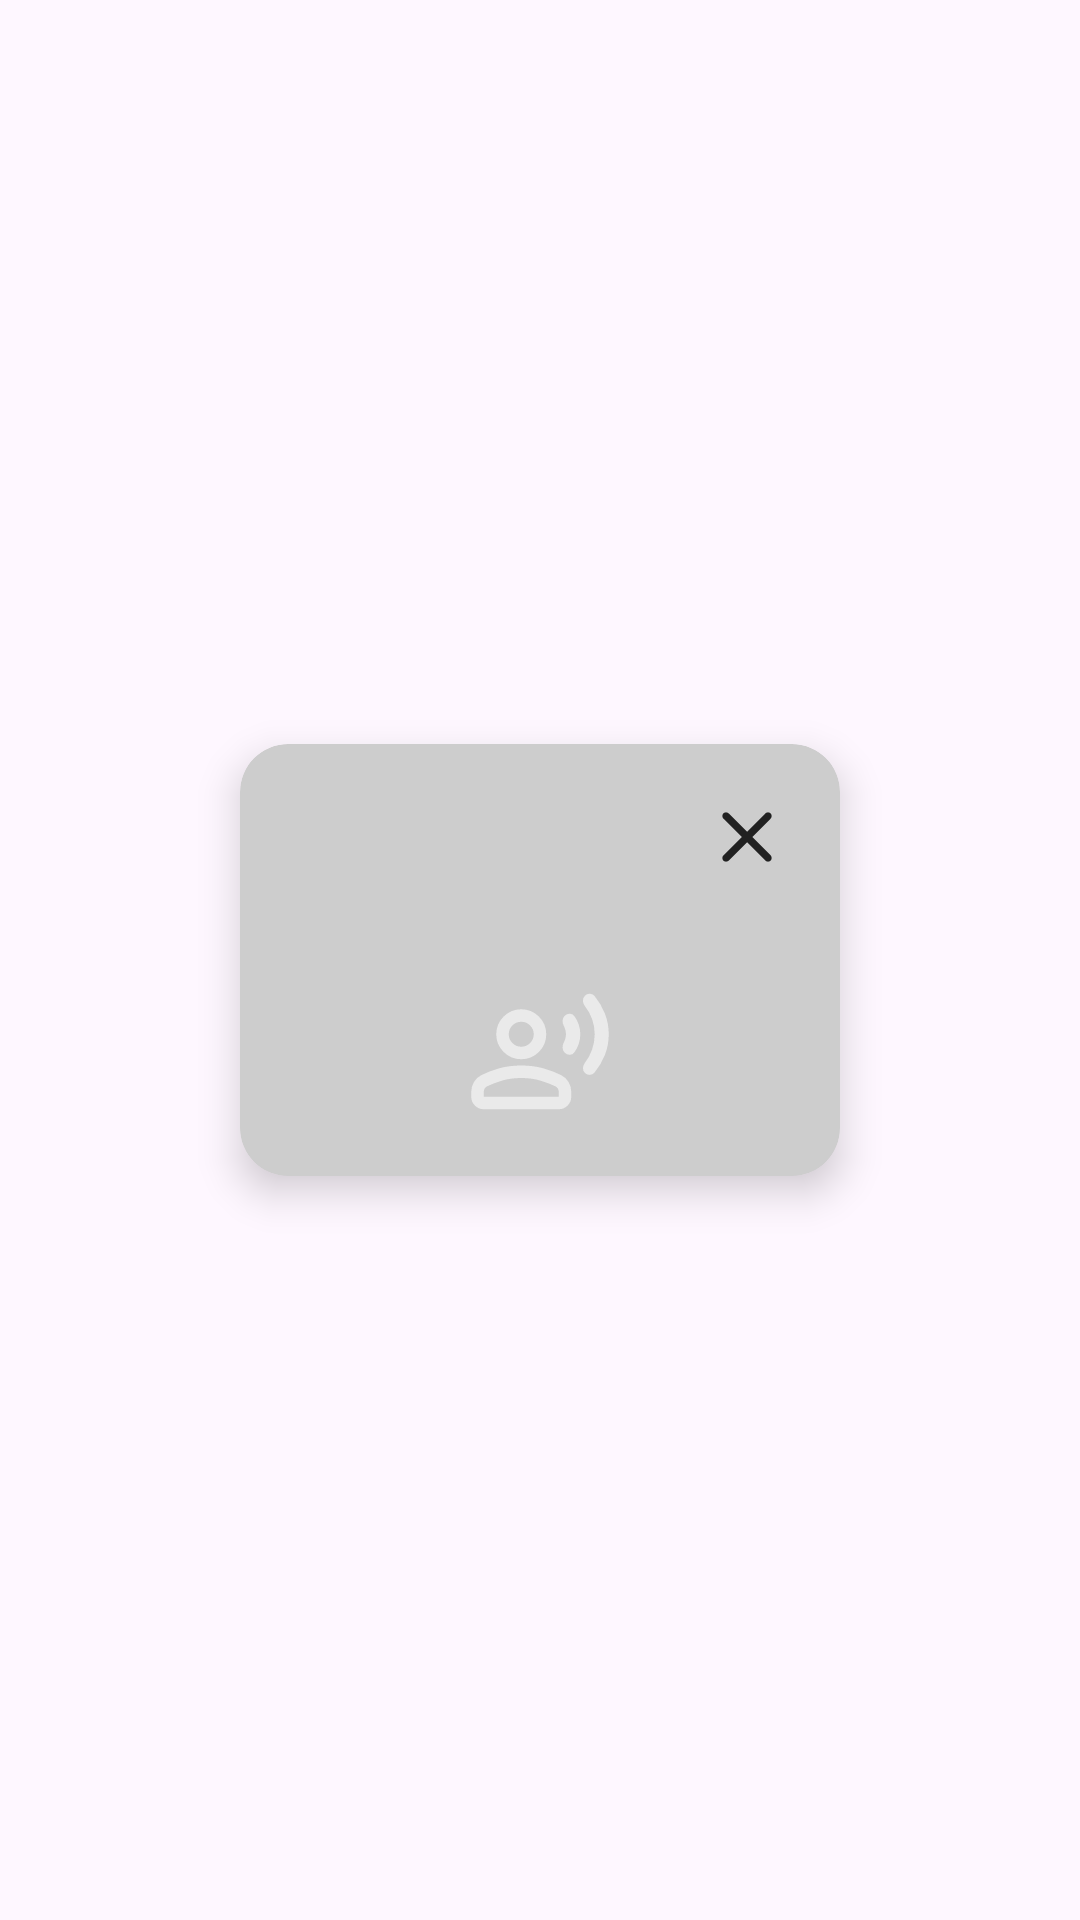

Named icons in this screenshot (1080px x 1920px) and their centers, (x=x, y=y):
close: (x=747, y=837)
record voice: (x=540, y=1051)
